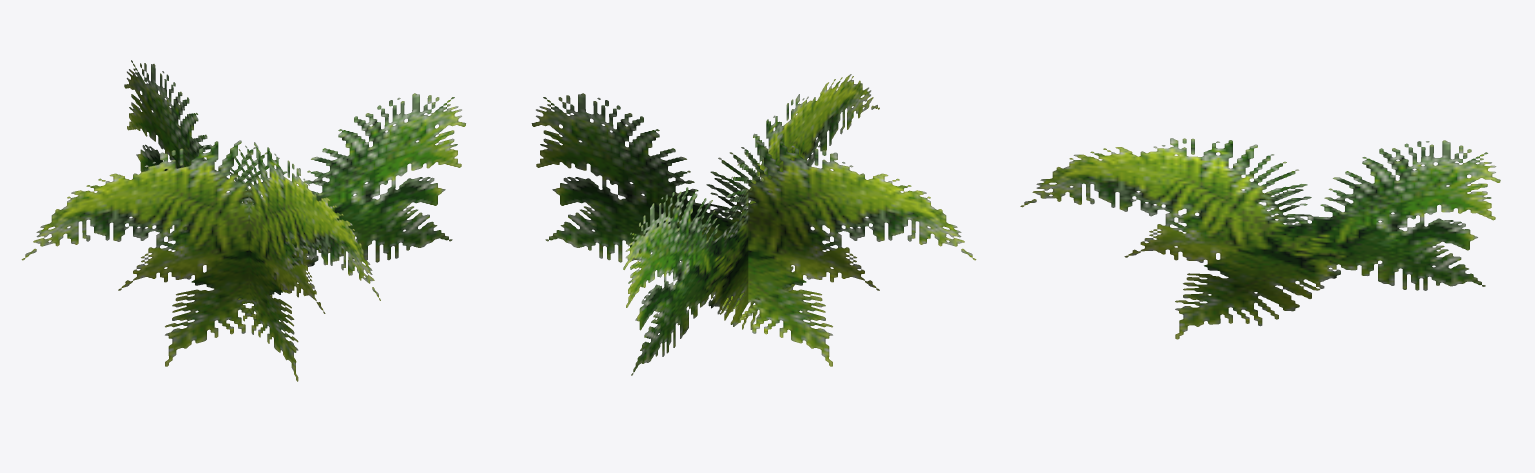
Rendered from Fern.fbx.
3 renders of one model, left to right at view 1: azimuth 30°, elevation 25°; view 2: azimuth 150°, elevation 25°; view 3: azimuth 270°, elevation 25°, orthographic. The views are drawn at different scales.
Parts seen in each view (by area): view 1: Fern; view 2: Fern; view 3: Fern.
Part boxes in pixels (box(x1,y1,x2,y2)): Fern: box(21, 60, 465, 381); Fern: box(531, 74, 976, 375); Fern: box(1020, 138, 1500, 339).
Bounding box in the file's own units: 2 × 1 × 2.
